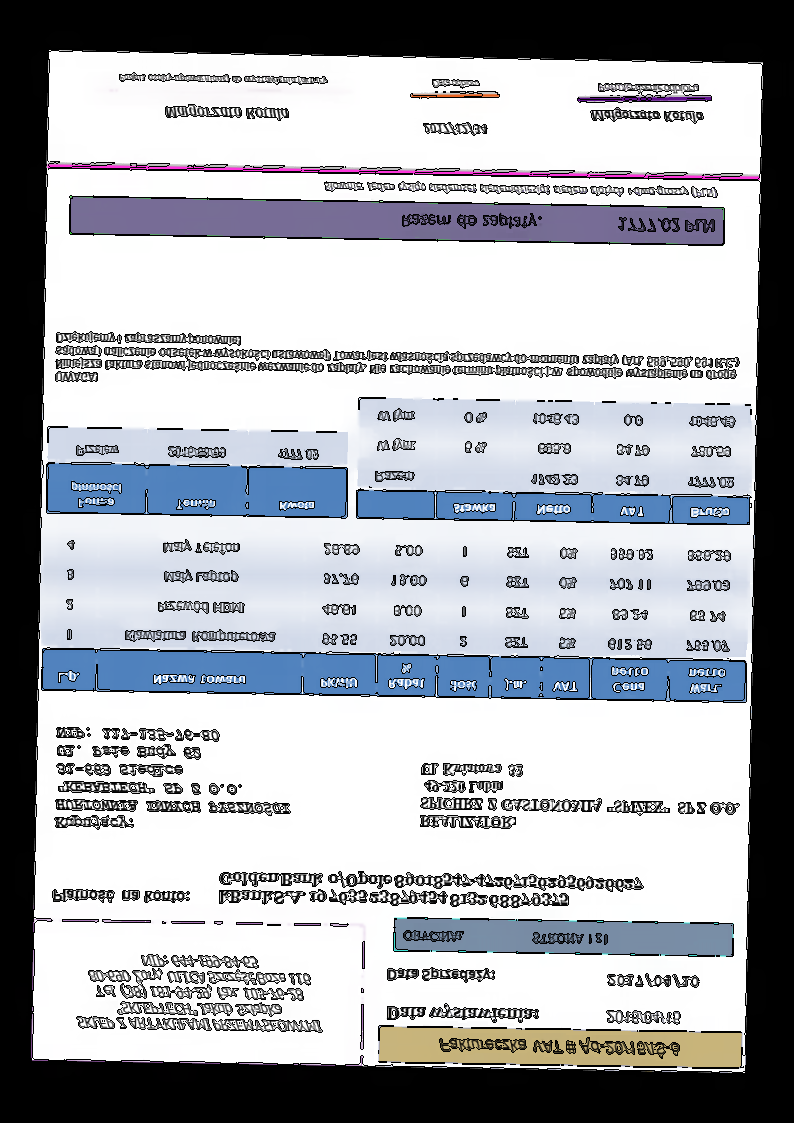Table: (39, 523, 750, 706), (353, 395, 753, 528), (45, 426, 350, 520)
TextBox: (52, 328, 743, 399), (49, 724, 294, 837), (416, 759, 744, 837), (72, 947, 326, 1041), (215, 868, 646, 916), (396, 210, 716, 241), (321, 178, 723, 202), (434, 1035, 686, 1062), (400, 925, 611, 950), (113, 70, 332, 89), (383, 1003, 543, 1029), (46, 883, 194, 908), (162, 101, 292, 128), (381, 963, 502, 988), (585, 106, 708, 128), (604, 970, 703, 994), (601, 1005, 683, 1031), (591, 79, 702, 97), (420, 119, 489, 139), (428, 74, 483, 92)
